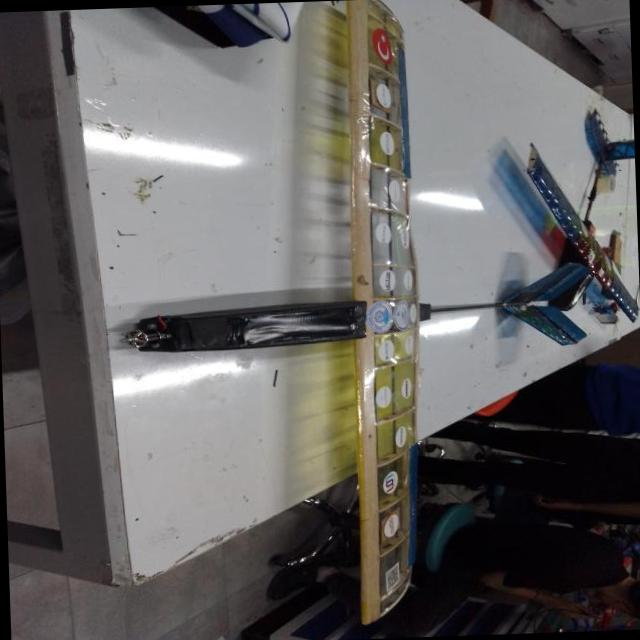UAV: (42, 40, 533, 634)
